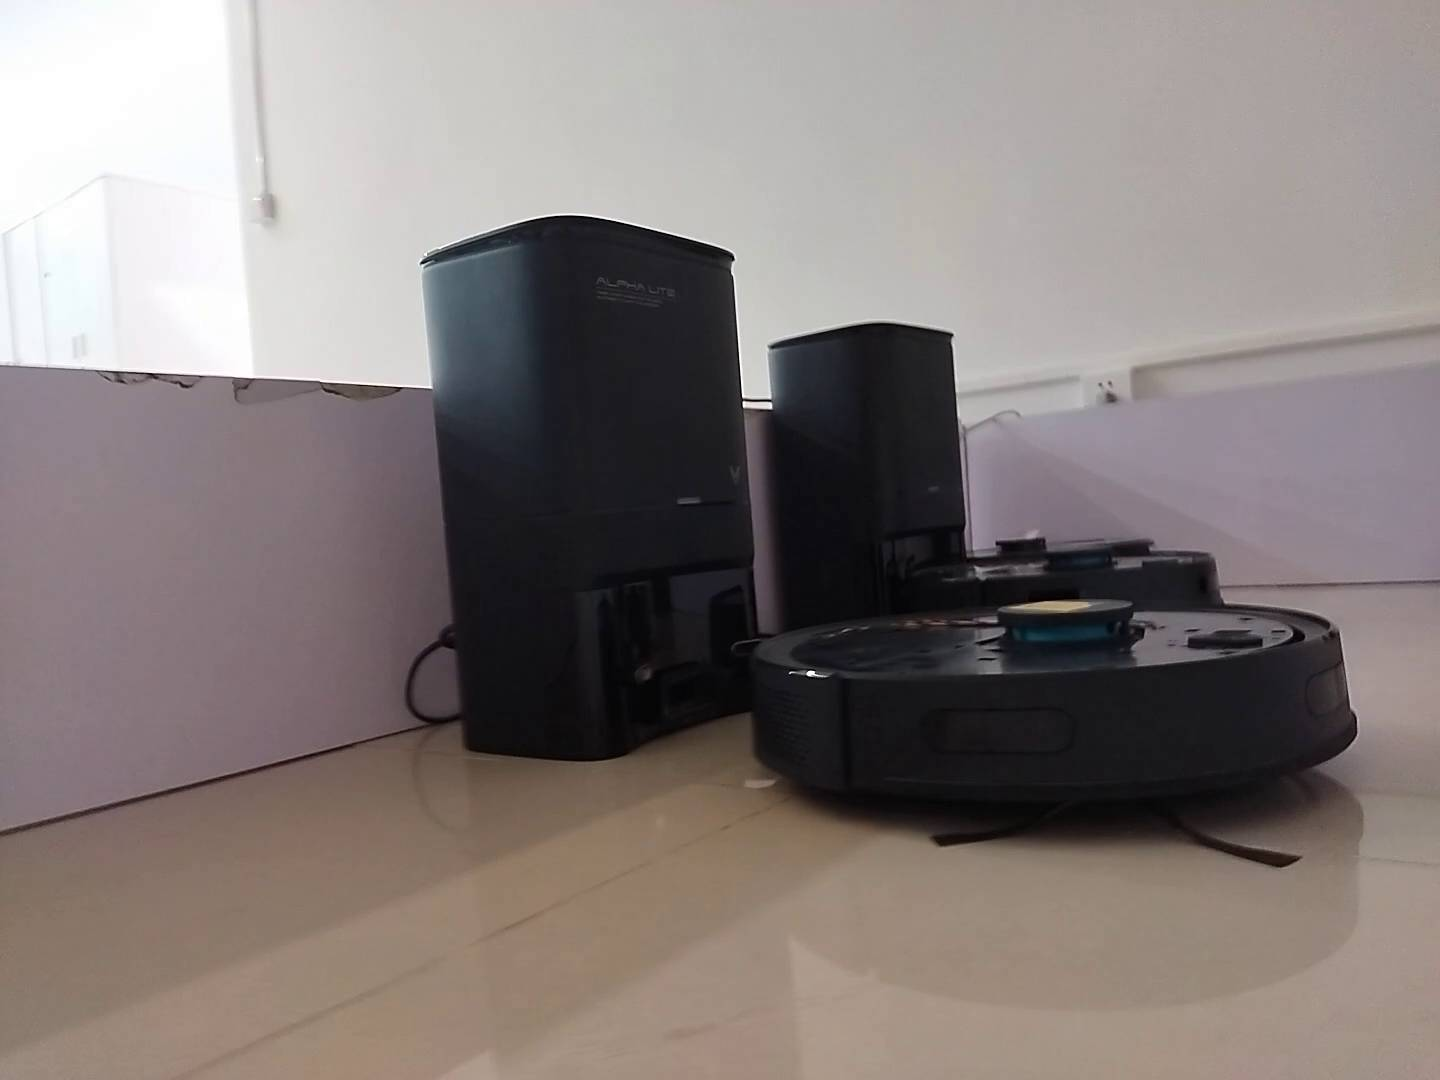dust collecting barrel: (420, 216, 764, 763), (769, 321, 969, 613)
